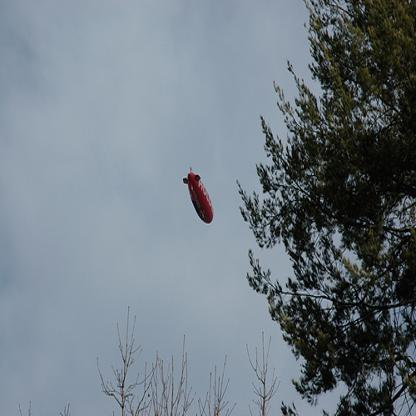Airship: (179, 164, 219, 226)
